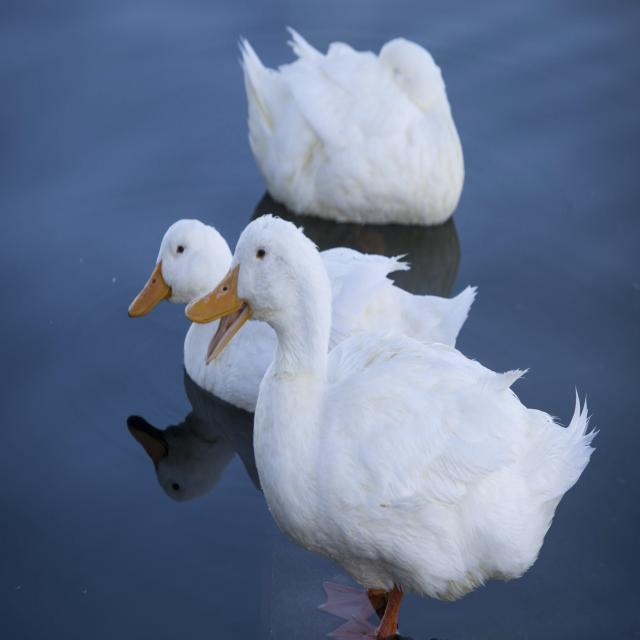duck: (186, 215, 595, 640), (240, 27, 464, 225), (129, 219, 233, 317)
